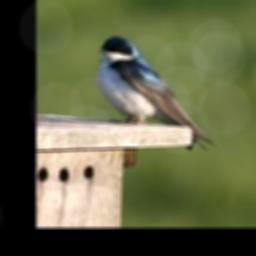Swallow: (94, 34, 217, 157)
